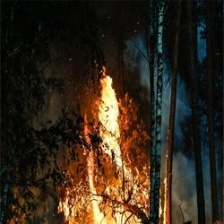fire: (60, 73, 161, 224)
